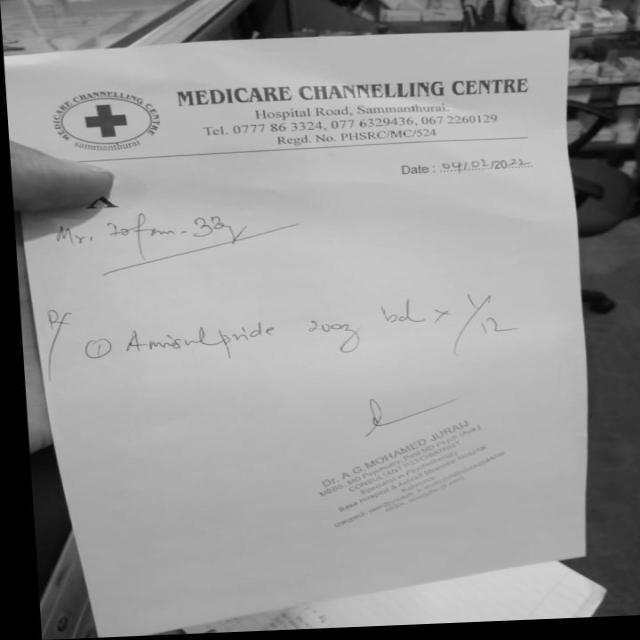Prescription: (118, 294, 508, 368)
